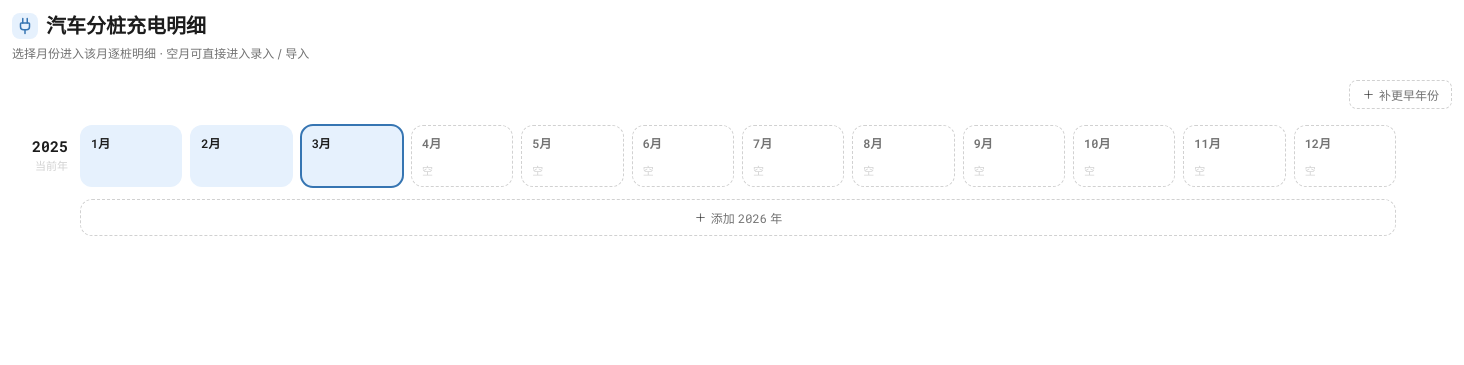
Test case: 分桩充电明细 · 选期动线 › 顶栏「换月」回矩阵,年月下拉已不存在
The image size is (1464, 365).
Click the button with class "bmm-card" showing "3月" at (352, 156), box [301,125,403,187]
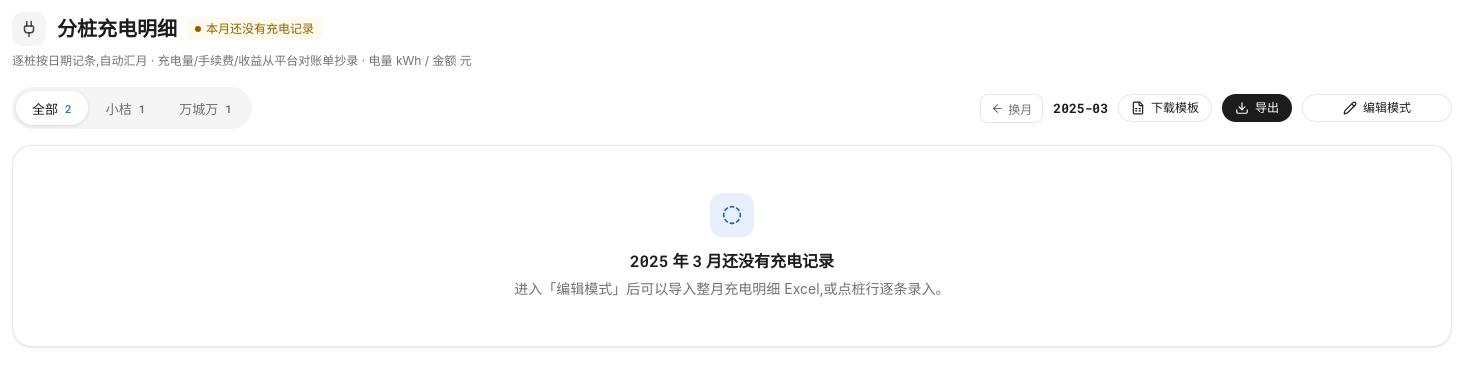
Result: the text with class "cm-per" reads "2025-03" at [1053,99,1108,117]
Click the button with class "cm-permonth" at (1012, 108), box [980,94,1043,122]
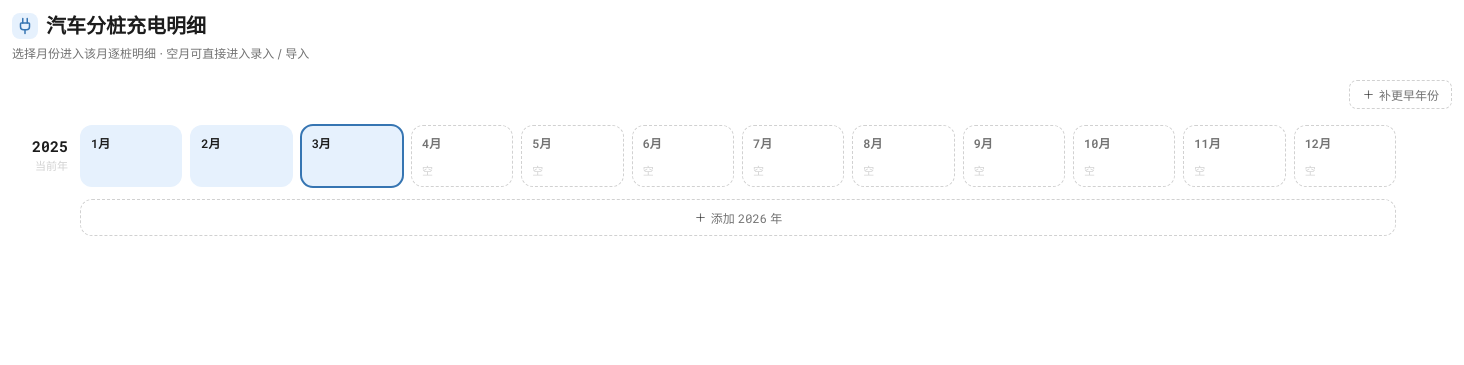
Result: the element with class "fmg" is shown
